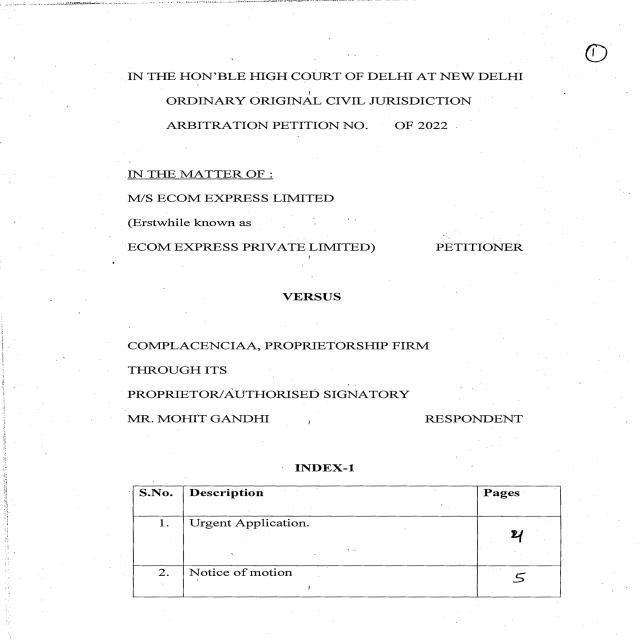page-number: (524, 2, 638, 169)
